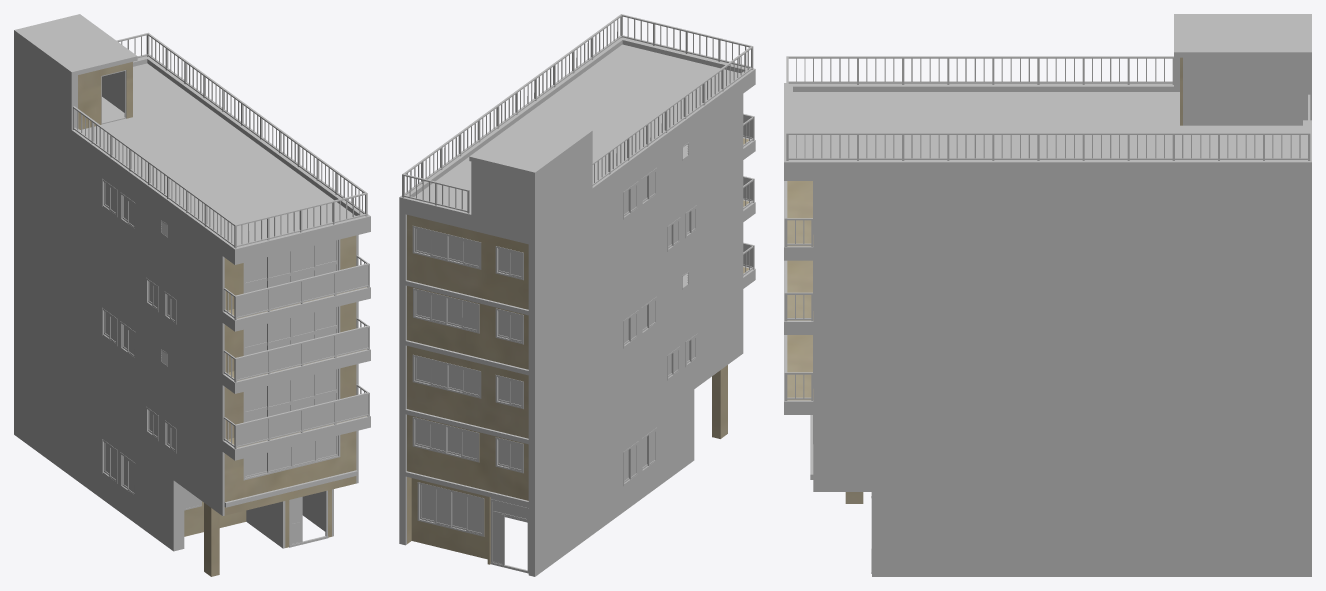
File: Bldg_mobbil02a.fbx
The picture shows the model from 3 angles, left to right: view 1: azimuth 30°, elevation 25°; view 2: azimuth 150°, elevation 25°; view 3: azimuth 270°, elevation 25°; orthographic projection. The views are drawn at different scales.
Parts seen in each view (by area): view 1: Bldg_mobbil02a; view 2: Bldg_mobbil02a; view 3: Bldg_mobbil02a.
Boxes of the visible parts, bbox=[...] form: Bldg_mobbil02a: bbox=[14, 14, 370, 576]; Bldg_mobbil02a: bbox=[399, 14, 755, 576]; Bldg_mobbil02a: bbox=[784, 14, 1311, 576].
Size of the model in its own units: 6.41 by 18.22 by 18.
